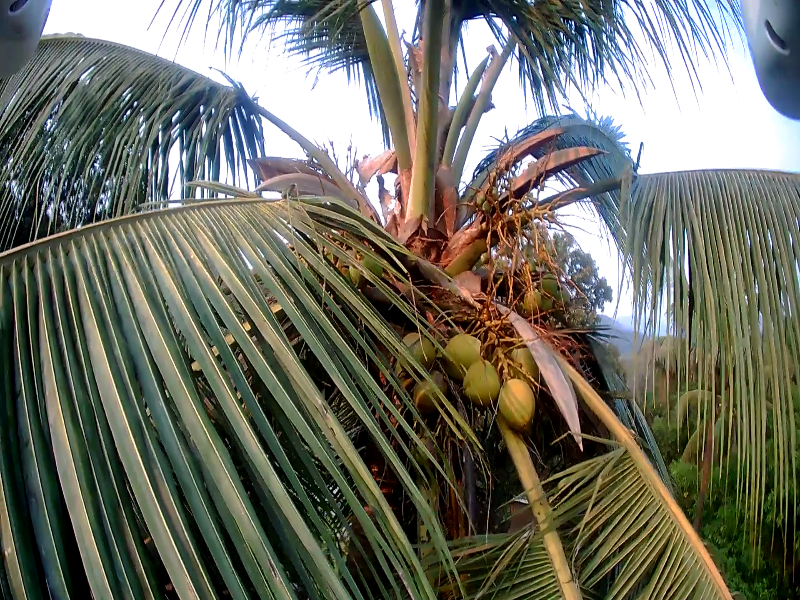coconut: (498, 375, 531, 421), (447, 327, 478, 367), (466, 360, 492, 399), (412, 375, 441, 409), (399, 332, 431, 362), (523, 289, 541, 310), (543, 280, 555, 295)
